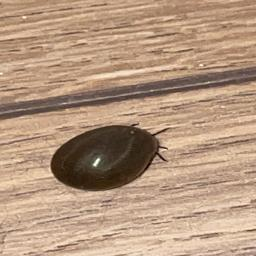Rhipicephalus sanguineus: (49, 121, 170, 193)
